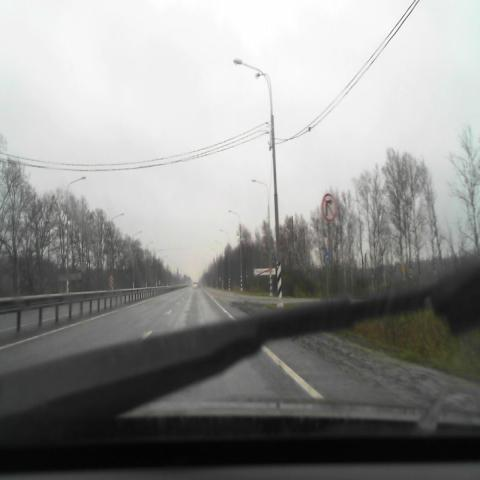3_18: (322, 193, 336, 222)
